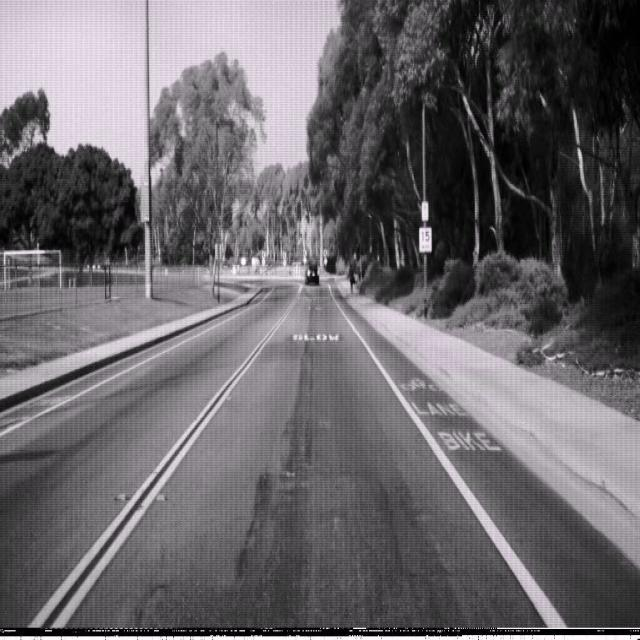speedLimit15: (418, 225, 432, 252)
